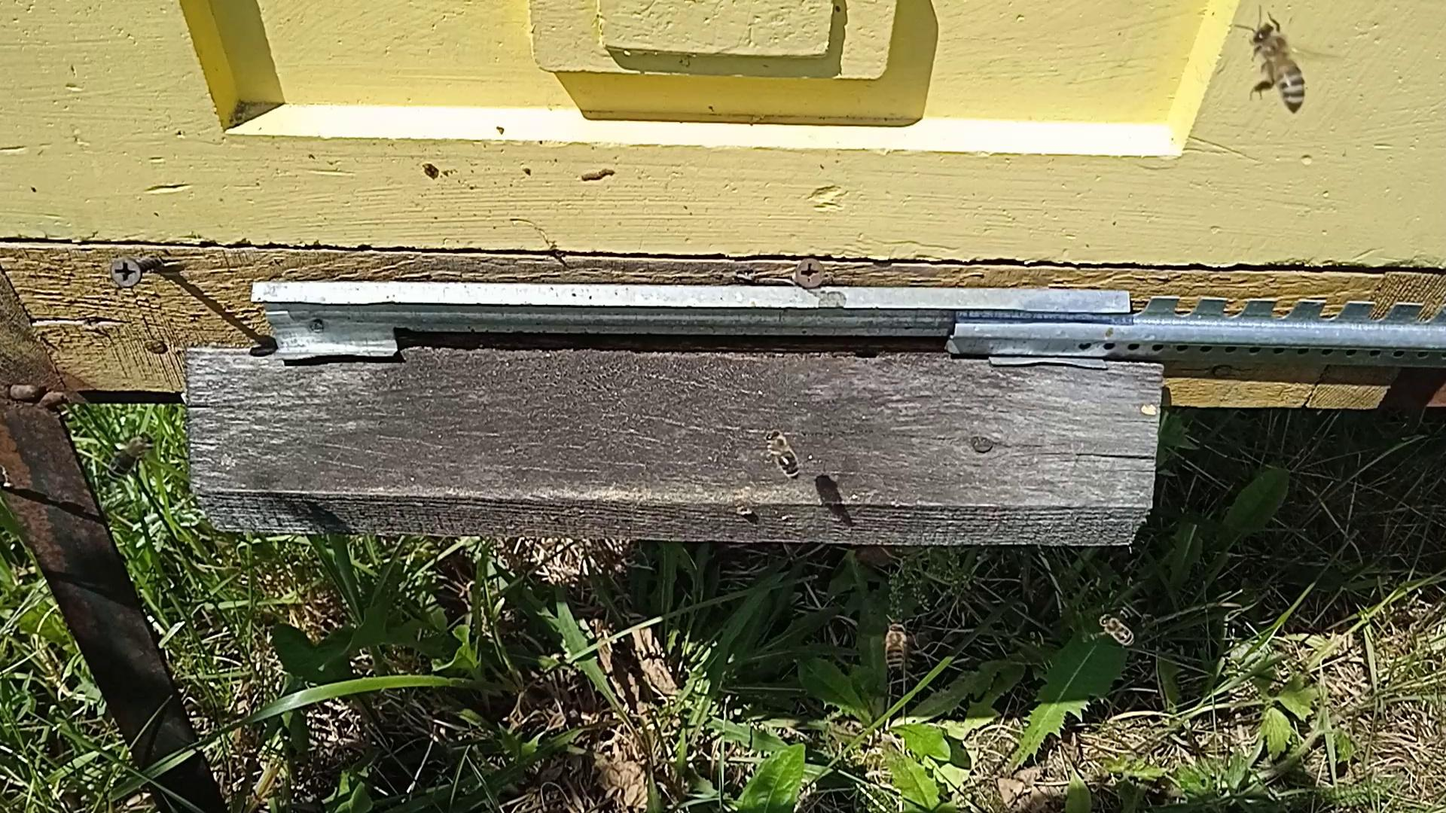worker-bee: (1248, 18, 1309, 113), (107, 431, 155, 481), (763, 427, 802, 480), (884, 619, 909, 671), (1099, 614, 1135, 645)
